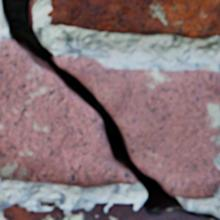brick: (47, 0, 219, 37)
broken_brick: (54, 55, 219, 198), (0, 40, 136, 185), (3, 200, 208, 219)
crack: (1, 0, 219, 219)
